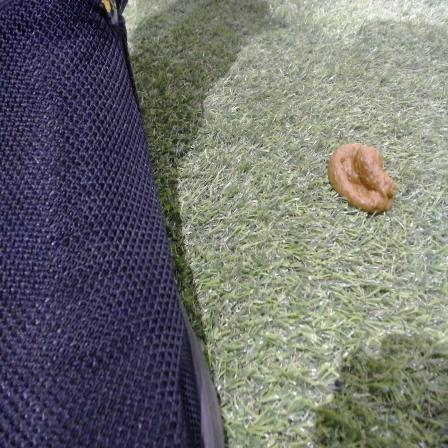dog-poop: (328, 142, 398, 214)
